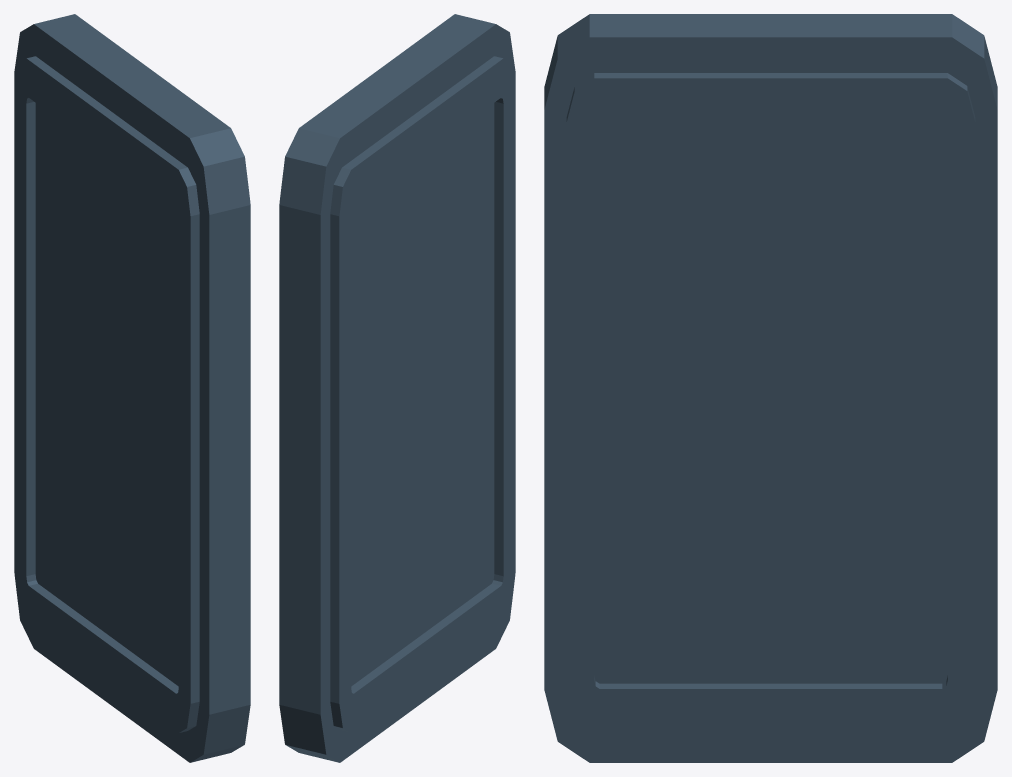
File: Airlock.fbx
3 views of the same model, side by side, from view 1: azimuth 30°, elevation 25°; view 2: azimuth 150°, elevation 25°; view 3: azimuth 270°, elevation 25° (orthographic). The views are drawn at different scales.
Parts seen in each view (by area): view 1: Cube; view 2: Cube; view 3: Cube.
Boxes of the visible parts, <box> form: Cube: <box>14,14,250,762</box>; Cube: <box>279,14,515,762</box>; Cube: <box>544,14,997,762</box>.
Bounding box in the file's own units: 8.08 × 80.6 × 45.61.
